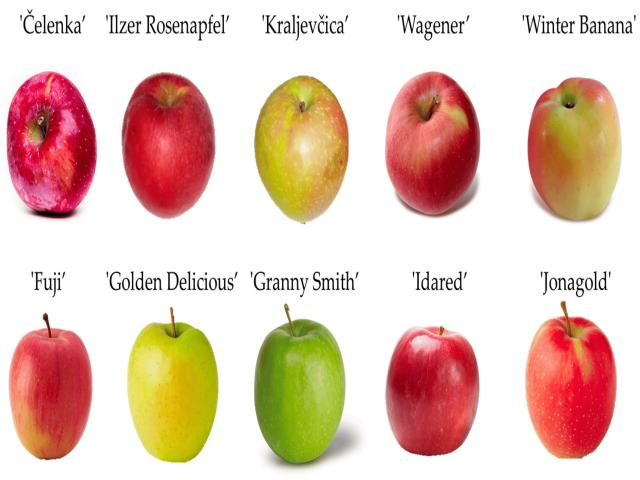apple: (254, 303, 346, 463), (524, 300, 616, 459), (126, 306, 218, 462), (254, 74, 348, 224), (384, 70, 480, 216), (121, 71, 215, 219), (527, 76, 622, 220), (6, 70, 97, 215), (385, 324, 480, 457), (8, 312, 92, 460)
